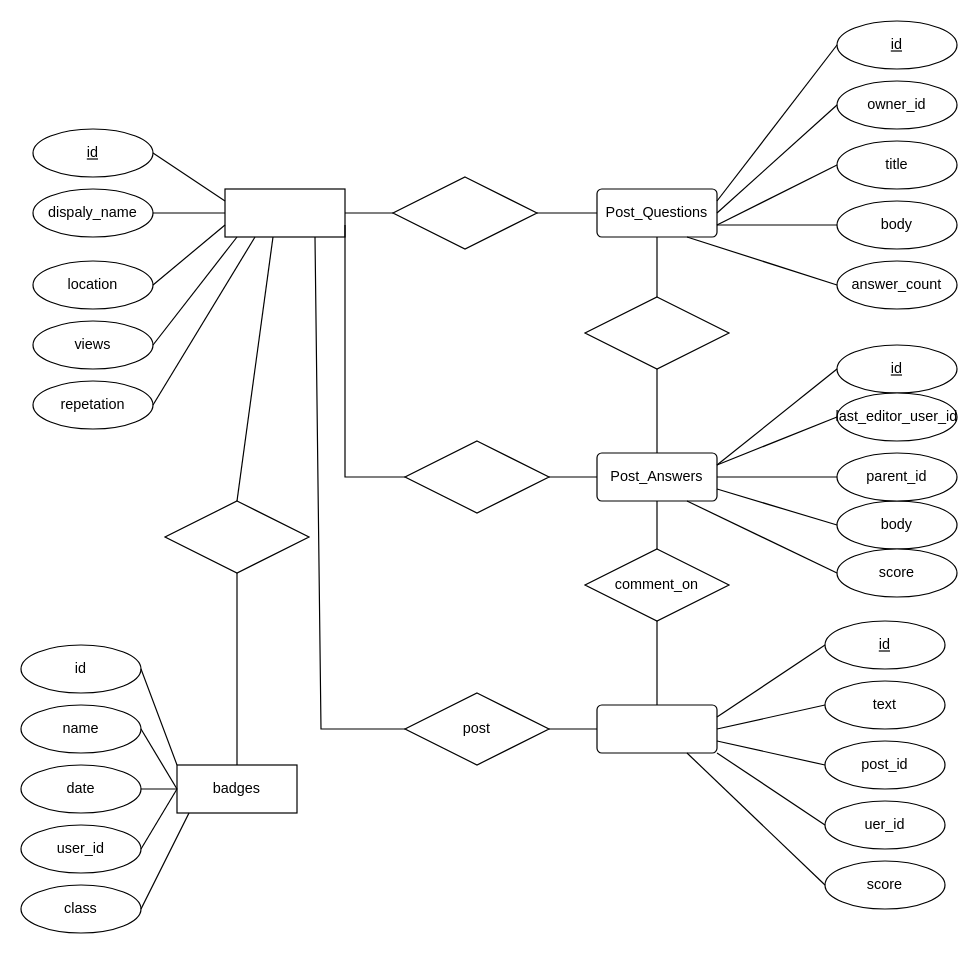
The diagram is 978 pixels wide and 954 high, and some of its shapes have lost their labels. The centre of each missing label's shape, as x and y in pixels:
"ans_for" belongs at [656,332].
"ans_question" belongs at [476,476].
"ask_question" belongs at [464,212].
"Comments" belongs at [656,728].
"has" belongs at [236,536].
"Users" belongs at [284,212].
